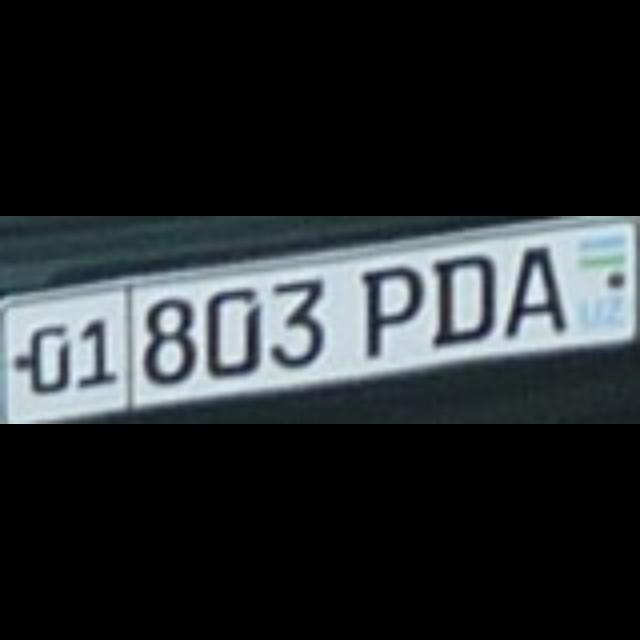0: (200, 284, 252, 372), (24, 320, 64, 388)
1: (72, 312, 112, 380)
3: (264, 272, 316, 360)
8: (136, 292, 188, 376)
A: (500, 240, 560, 332)
D: (428, 248, 488, 336)
P: (356, 260, 416, 352)
